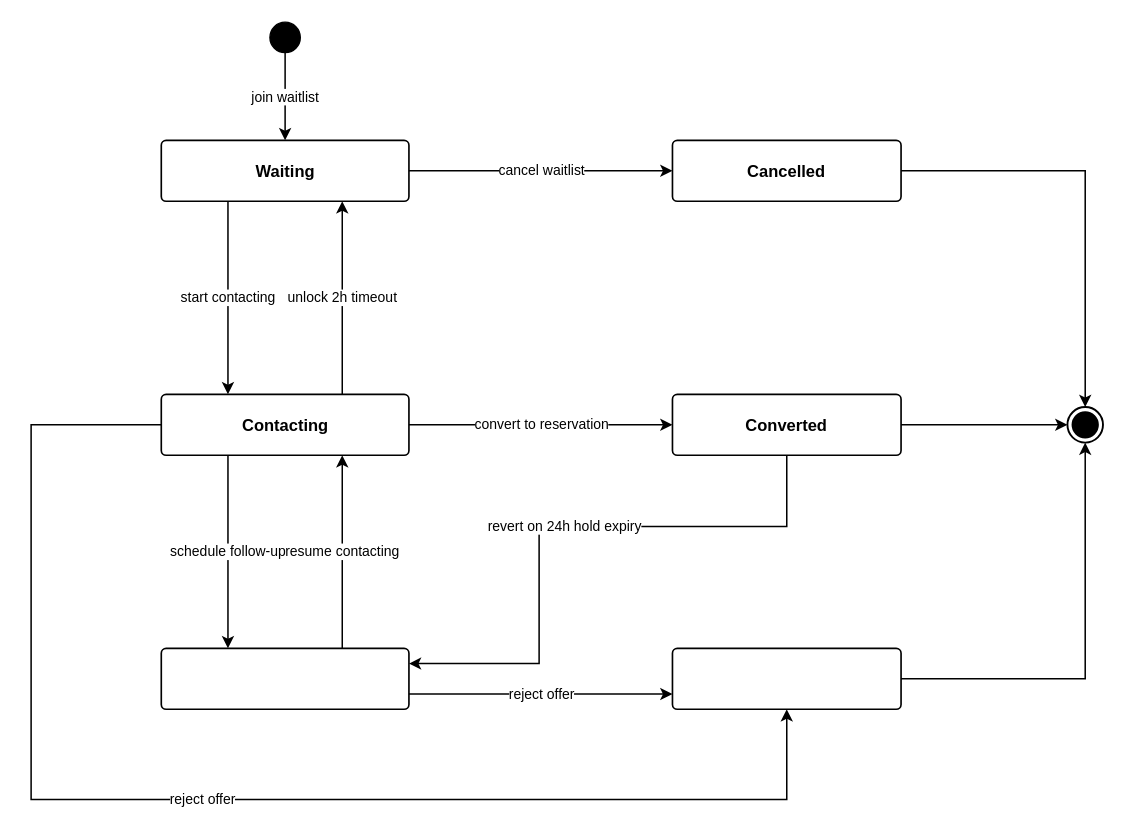
Image size: 1126x833. Some labels were removed from this diagram. Here are the shapes that lost their labels. From the top down, the centre of each, then its label:
At point 284,678: "Pending Follow Up".
At point 786,678: "Rejected".
